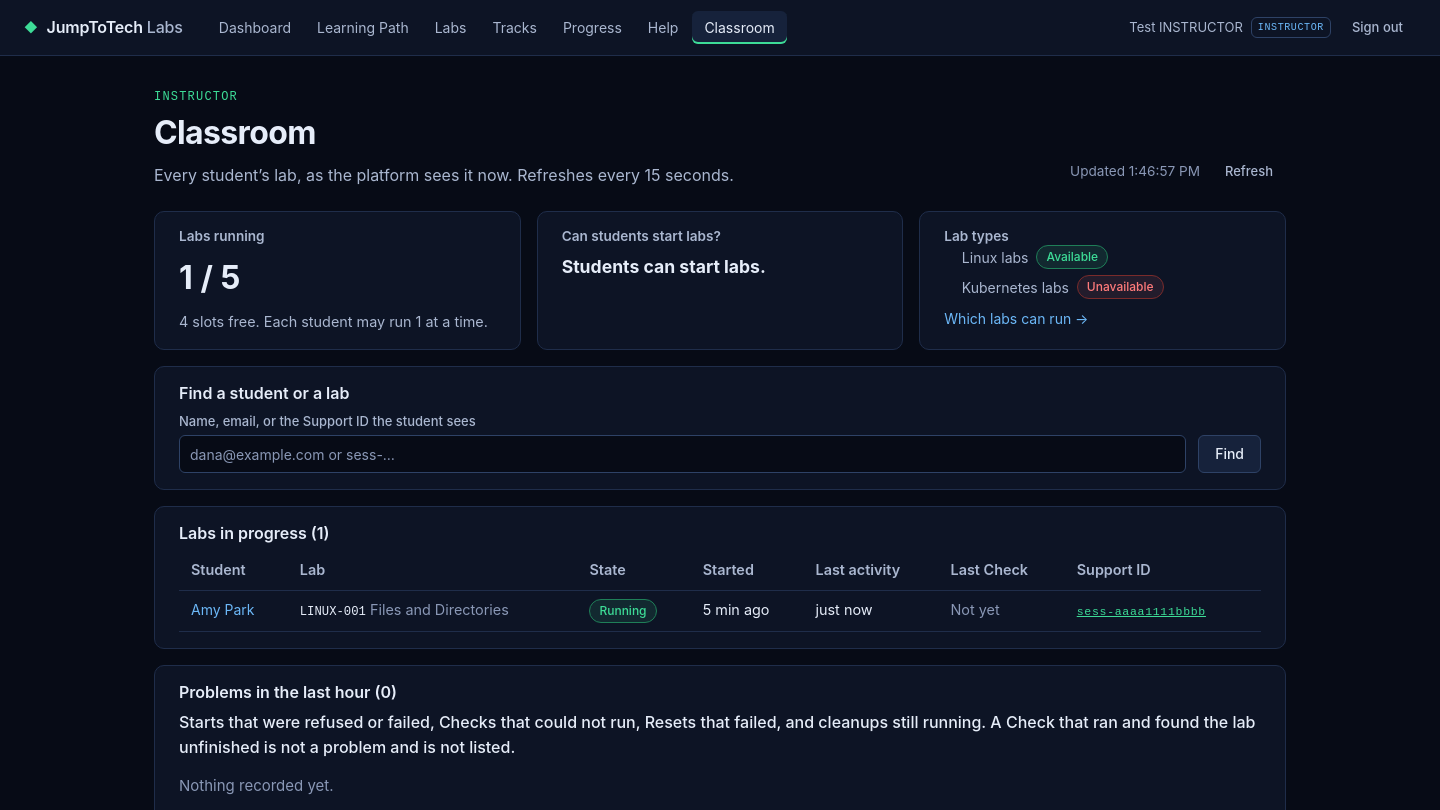
Test: the overview › keeps the last answer on screen when a refresh fails, and says how old it is
The image size is (1440, 810).
expect the text with test id "capacity" reads "1 / 5": met, box x1=179 y1=258 x2=240 y2=297
What coordinates should you click on to do the following:
click the button "Refresh"
I would click on:
 (1249, 171)
Its box is x1=1212 y1=155 x2=1286 y2=187.
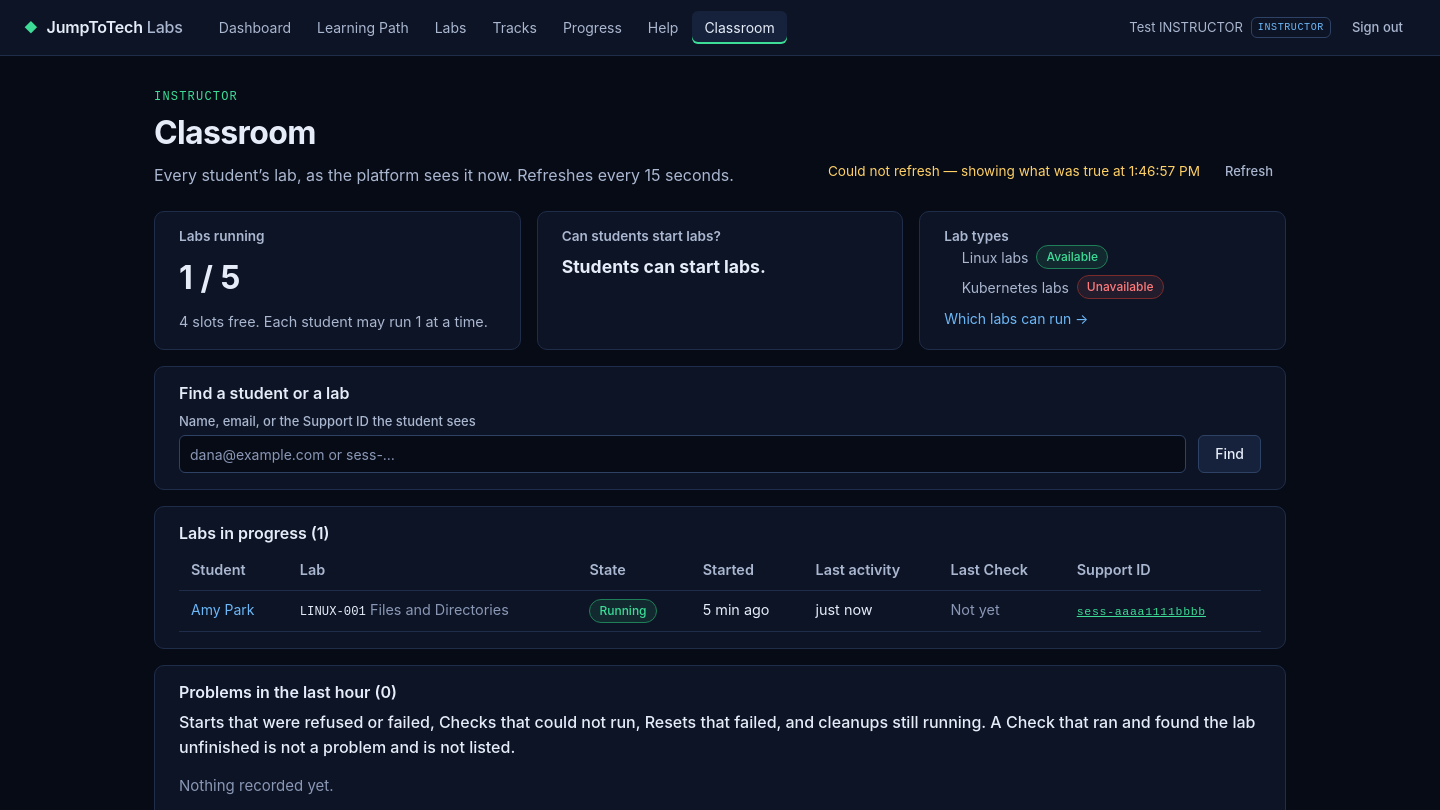
expect the text with test id "capacity" reads "1 / 5": met, box x1=179 y1=258 x2=240 y2=297
expect the text "Could not refresh — showing what was true at 1:46:57 PM" is shown: met, box x1=828 y1=161 x2=1200 y2=182
What coordinates should you click on to do the following:
click the button "Refresh"
I would click on:
 (1249, 171)
Its box is x1=1212 y1=155 x2=1286 y2=187.
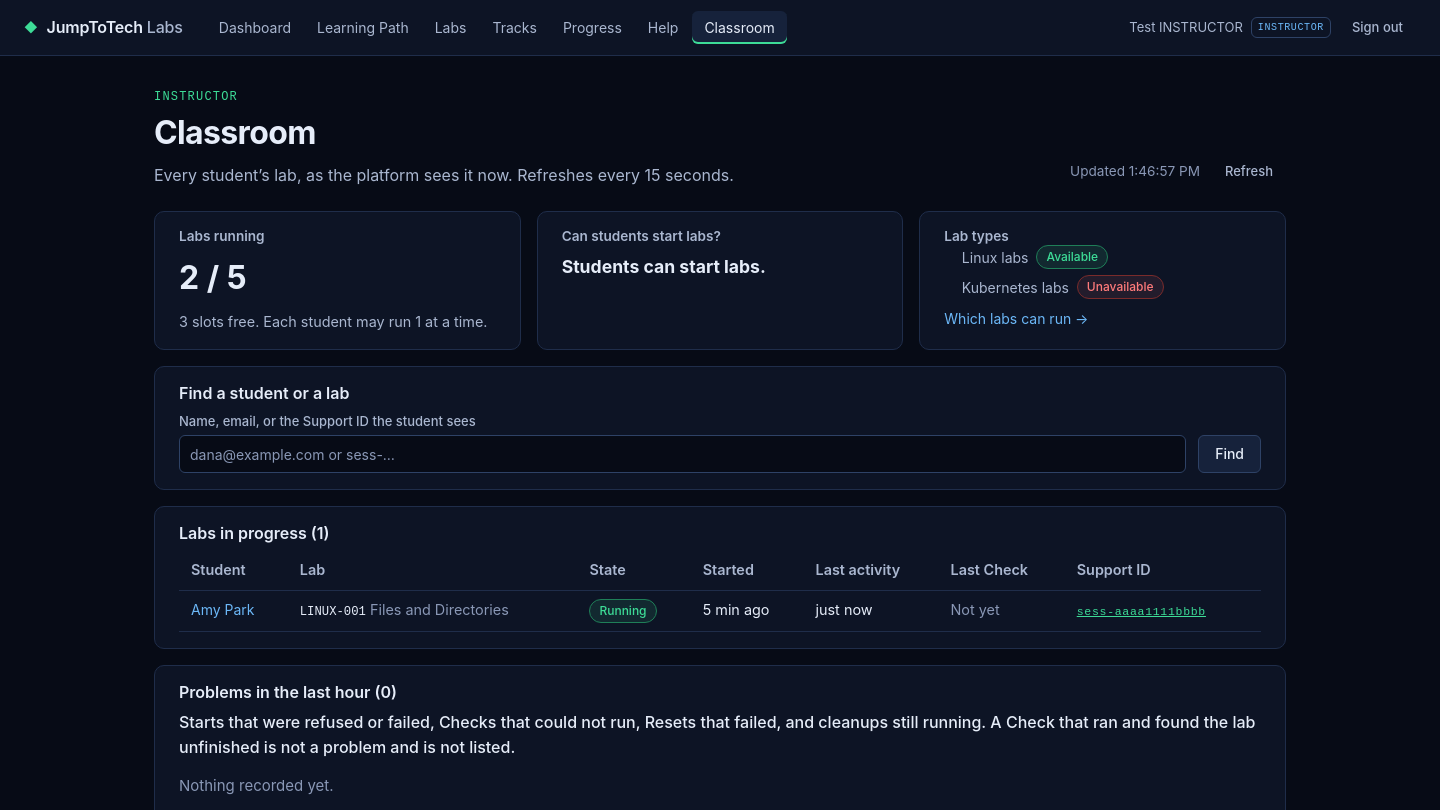
expect the text with test id "capacity" reads "2 / 5": met, box x1=179 y1=258 x2=247 y2=297
expect the text "Could not refresh" is gone: met
